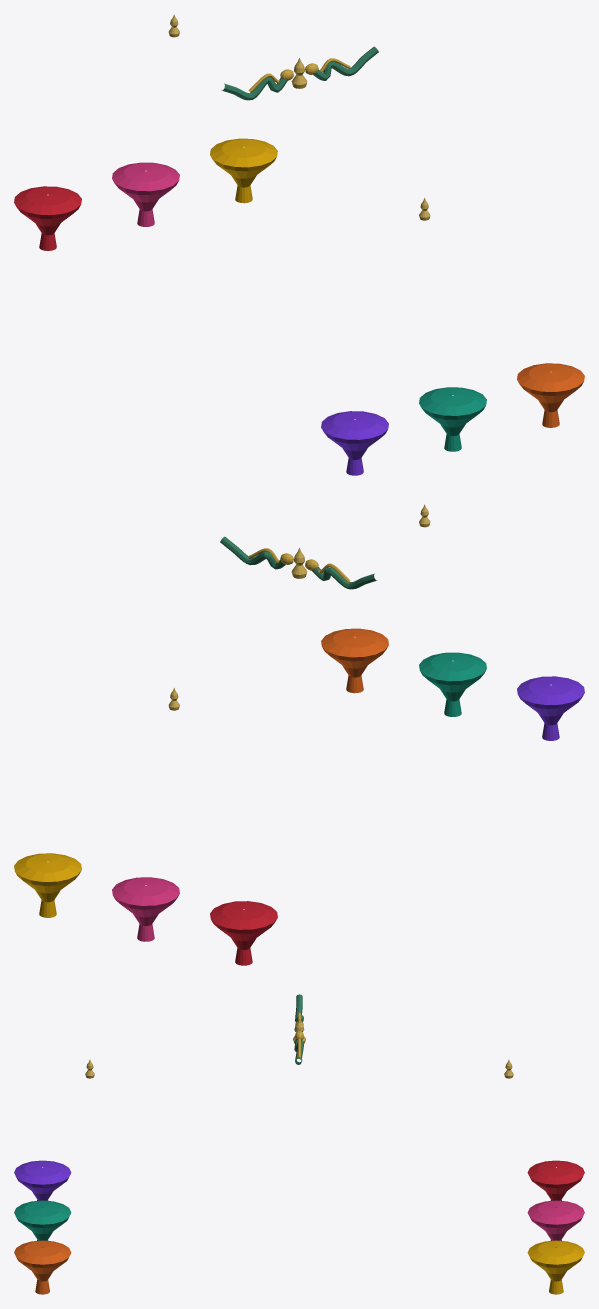
Rendered from thuyxuan-hero.glb.
3 renders of one model, top to bottom at view 1: azimuth 30°, elevation 25°; view 2: azimuth 150°, elevation 25°; view 3: azimuth 270°, elevation 25°, orthographic. The views are drawn at different scales.
Visible parts, largest first — view 1: thuyxuan_hero_ornaments; view 2: thuyxuan_hero_ornaments; view 3: thuyxuan_hero_ornaments.
Part boxes in pixels (x1,y1,x2,y2): thuyxuan_hero_ornaments: [14, 14, 584, 475]; thuyxuan_hero_ornaments: [14, 504, 584, 965]; thuyxuan_hero_ornaments: [14, 994, 584, 1294].
Size of the model in its own units: 7.3 by 7.65 by 16.9.
